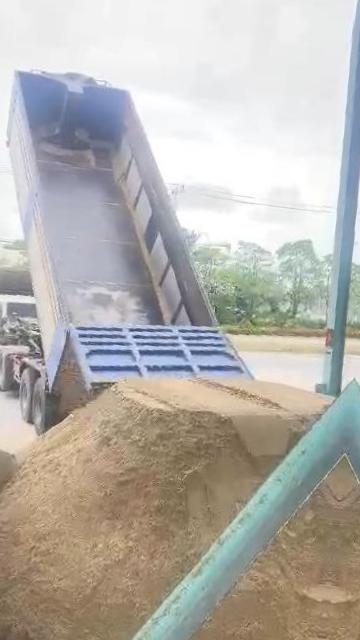sand: (0, 379, 327, 640), (156, 461, 345, 640), (0, 419, 15, 548)
